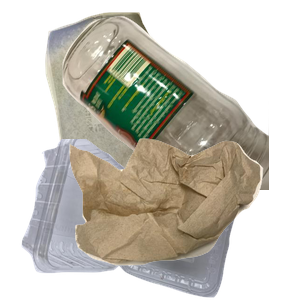glass: (60, 14, 300, 194)
paper: (43, 10, 221, 185)
plastic: (19, 139, 249, 300)
trash: (67, 136, 300, 300)
